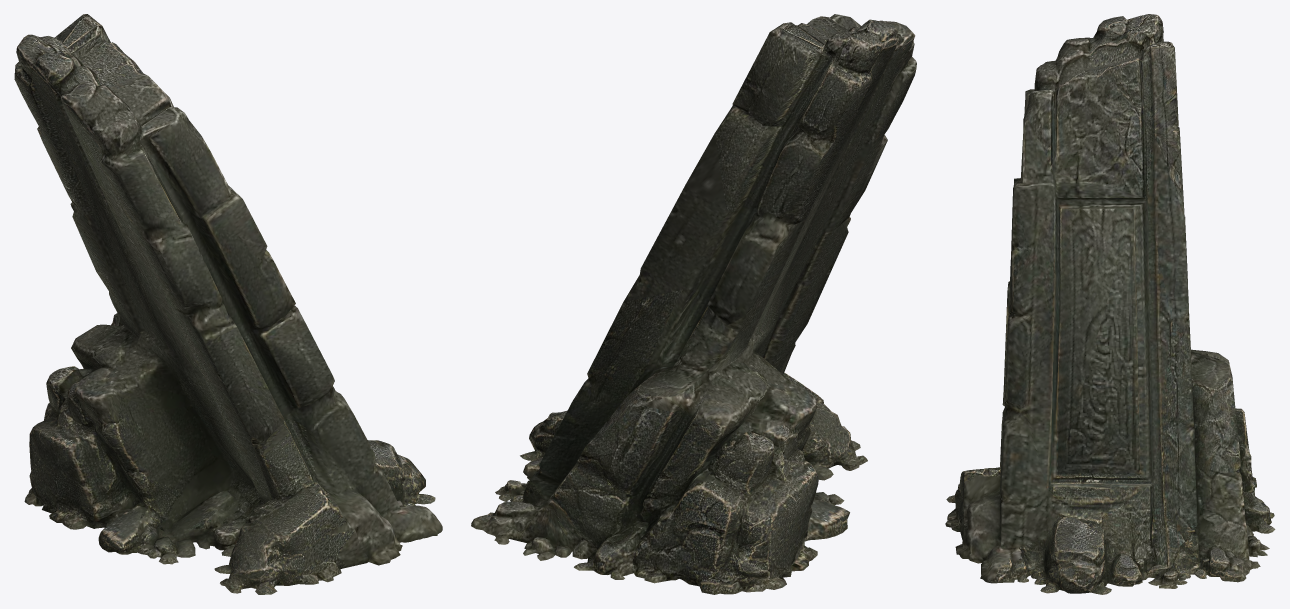
Rendered from stone-monolith.glb.
3 renders of one model, left to right at view 1: azimuth 30°, elevation 25°; view 2: azimuth 150°, elevation 25°; view 3: azimuth 270°, elevation 25°, orthographic. The views are drawn at different scales.
Parts seen in each view (by area): view 1: tripo_node_6f92141c-f13f-4f6a-bb40-75737bb2af40; view 2: tripo_node_6f92141c-f13f-4f6a-bb40-75737bb2af40; view 3: tripo_node_6f92141c-f13f-4f6a-bb40-75737bb2af40.
Boxes of the visible parts, x1,y1,x2,y2 form: tripo_node_6f92141c-f13f-4f6a-bb40-75737bb2af40: (14, 14, 442, 594); tripo_node_6f92141c-f13f-4f6a-bb40-75737bb2af40: (471, 14, 916, 594); tripo_node_6f92141c-f13f-4f6a-bb40-75737bb2af40: (945, 14, 1275, 594).
Size of the model in its own units: 0.752 by 0.998 by 0.6855.
1 material, 1 textured.
